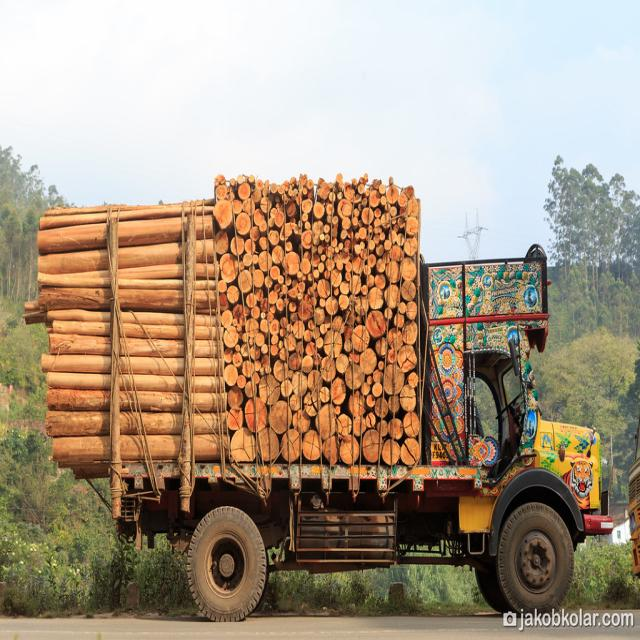Truck: (33, 176, 608, 621)
